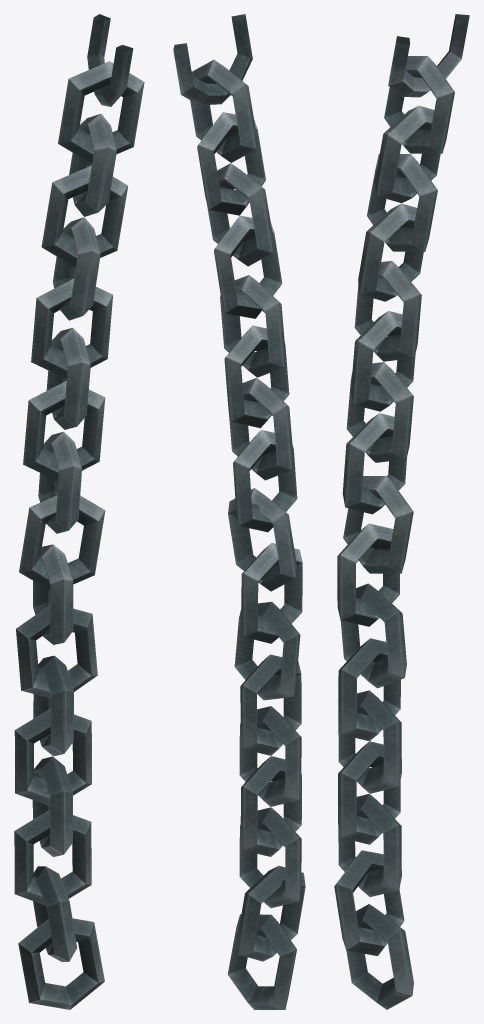
File: changjing_suolian_c.FBX
3 views of the same model, side by side, from view 1: azimuth 30°, elevation 25°; view 2: azimuth 150°, elevation 25°; view 3: azimuth 330°, elevation 25° (orthographic). The views are drawn at different scales.
Visible parts, largest first — view 1: changjing_suolian_c; view 2: changjing_suolian_c; view 3: changjing_suolian_c.
Part boxes in pixels (bbox=[...]): changjing_suolian_c: bbox=[14, 14, 144, 1009]; changjing_suolian_c: bbox=[173, 14, 305, 1009]; changjing_suolian_c: bbox=[334, 14, 469, 1009].
Bounding box in the file's own units: 27.54 × 19.95 × 212.
